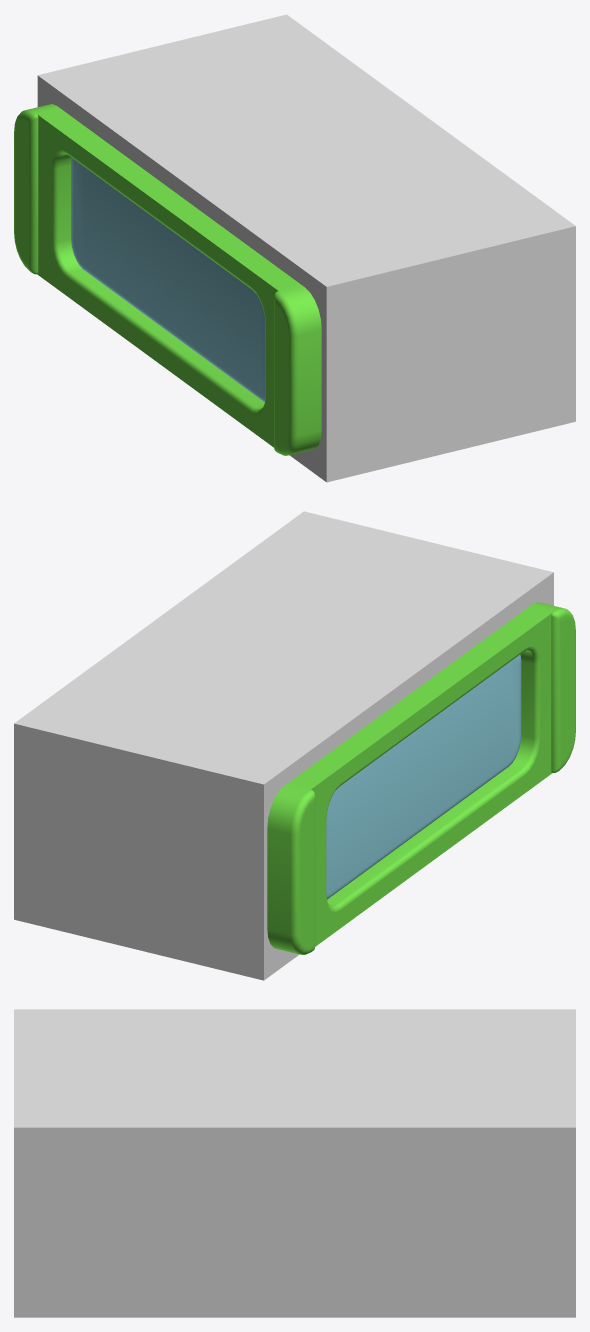
Rendered from periscope.fbx.
3 views of the same model, one above another, from view 1: azimuth 30°, elevation 25°; view 2: azimuth 150°, elevation 25°; view 3: azimuth 270°, elevation 25° (orthographic). The views are drawn at different scales.
Visible parts, largest first — view 1: blackBox, body, lens; view 2: blackBox, body, lens; view 3: blackBox.
Boxes of the visible parts, x1=… form: blackBox: x1=37, y1=14, x2=575, y2=482; body: x1=14, y1=104, x2=321, y2=455; lens: x1=71, y1=158, x2=265, y2=402; blackBox: x1=14, y1=511, x2=553, y2=980; body: x1=267, y1=602, x2=575, y2=954; lens: x1=326, y1=654, x2=521, y2=899; blackBox: x1=14, y1=1009, x2=575, y2=1317.
Bounding box in the file's own units: 1164 × 781 × 2093.
